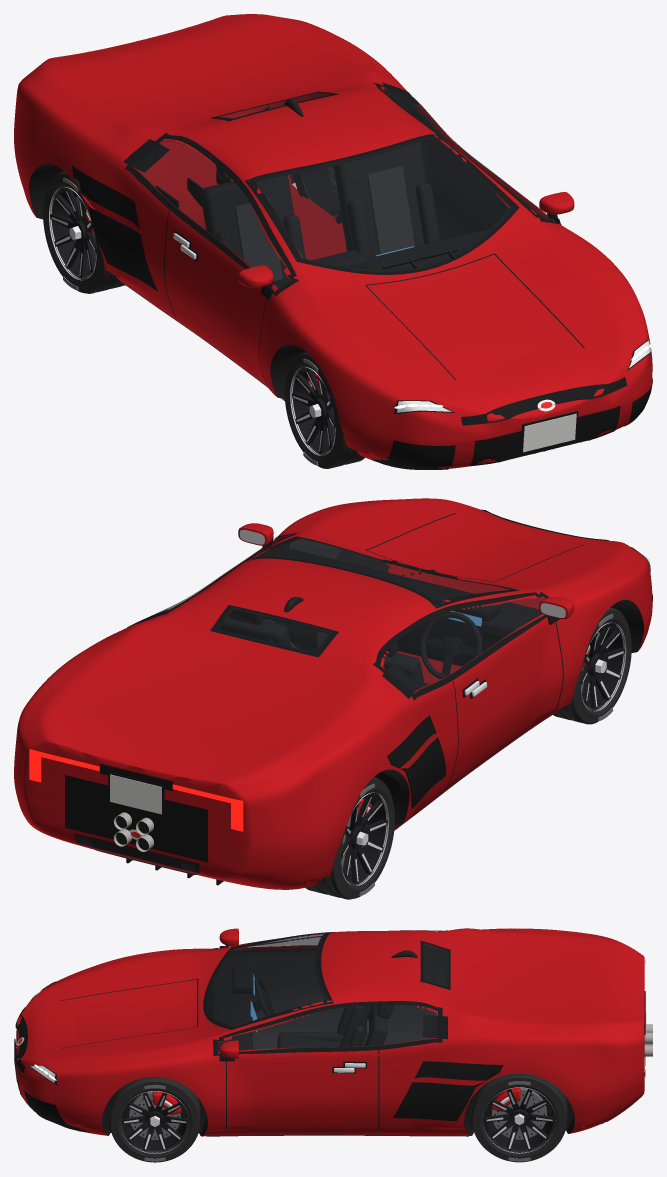
File: nsx.glb
3 renders of one model, top to bottom at view 1: azimuth 30°, elevation 25°; view 2: azimuth 150°, elevation 25°; view 3: azimuth 270°, elevation 25°, orthographic. The views are drawn at different scales.
Parts seen in each view (by area): view 1: Body, Wheel_RR, Wheel_FR, Wheel_RL; view 2: Body, Wheel_RR, Wheel_FR; view 3: Body, Wheel_RL, Wheel_FL.
Part boxes in pixels (left/top/right/bottom): Body: left=14, top=14, right=652, bottom=469; Wheel_RR: left=43, top=171, right=125, bottom=293; Wheel_FR: left=284, top=352, right=364, bottom=468; Wheel_RL: left=293, top=166, right=342, bottom=223; Body: left=14, top=498, right=652, bottom=889; Wheel_RR: left=305, top=777, right=394, bottom=899; Wheel_FR: left=553, top=607, right=631, bottom=724; Body: left=14, top=928, right=652, bottom=1136; Wheel_RL: left=471, top=1073, right=567, bottom=1162; Wheel_FL: left=109, top=1077, right=200, bottom=1162.
Bounding box in the file's own units: 2.1 × 1.27 × 4.61.
